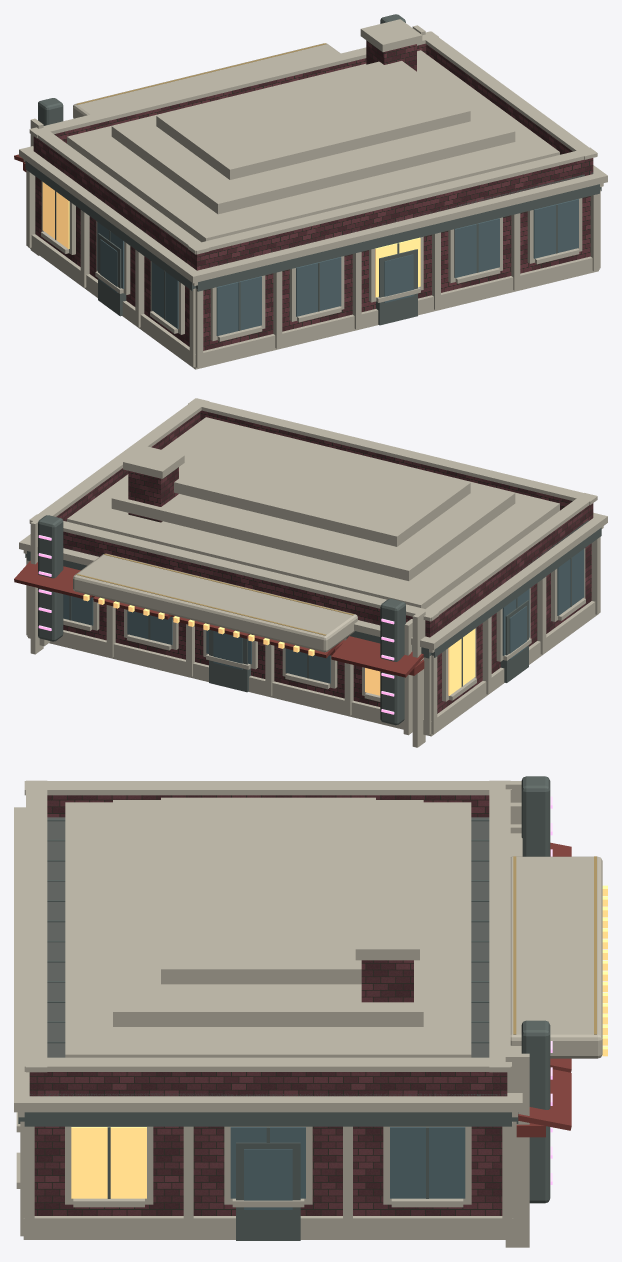
File: papermoon.glb
3 renders of one model, top to bottom at view 1: azimuth 30°, elevation 25°; view 2: azimuth 150°, elevation 25°; view 3: azimuth 270°, elevation 25°, orthographic. The views are drawn at different scales.
Visible parts, largest first — view 1: foundation, masonry, window pane, roof tar seam, window pane.002, marquee brass edge, roof; view 2: foundation, masonry, roof tar seam, window pane, canvas awning, window pane.002, marquee brass edge, neon blade tube; view 3: foundation, masonry, roof tar seam, window pane, roof, window pane.002, canvas awning, marquee brass edge.
Part boxes in pixels (box(x1,y1,x2,y2)): foundation: box(19, 19, 607, 369); masonry: box(33, 40, 593, 350); window pane: box(97, 199, 578, 335); roof tar seam: box(25, 14, 601, 330); window pane.002: box(42, 182, 420, 297); marquee brass edge: box(76, 43, 326, 104); roof: box(49, 161, 593, 267); foundation: box(19, 398, 607, 747); masonry: box(56, 410, 593, 713); roof tar seam: box(25, 515, 601, 725); window pane: box(63, 549, 584, 683); canvas awning: box(14, 561, 424, 677); window pane.002: box(83, 594, 475, 695); marquee brass edge: box(76, 553, 354, 635); neon blade tube: box(38, 535, 394, 714); foundation: box(14, 780, 602, 1247); masonry: box(29, 795, 507, 1215); roof tar seam: box(18, 776, 550, 1240); window pane: box(230, 1127, 465, 1209); roof: box(30, 817, 507, 1096); window pane.002: box(71, 885, 607, 1198); canvas awning: box(516, 842, 571, 1137); marquee brass edge: box(513, 856, 596, 1034).
Bounding box in the file's own units: 14.65 × 5.99 × 12.44.
9 materials, 1 textured.
